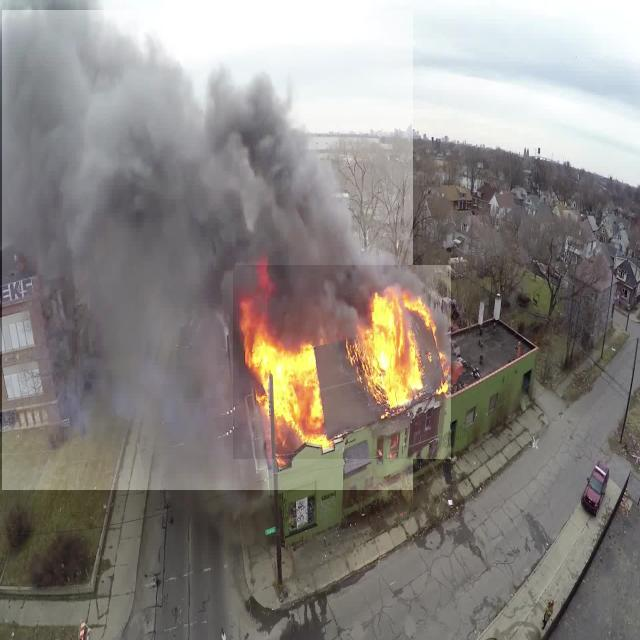Fire: (234, 266, 452, 460)
Smoke: (2, 10, 413, 490)
